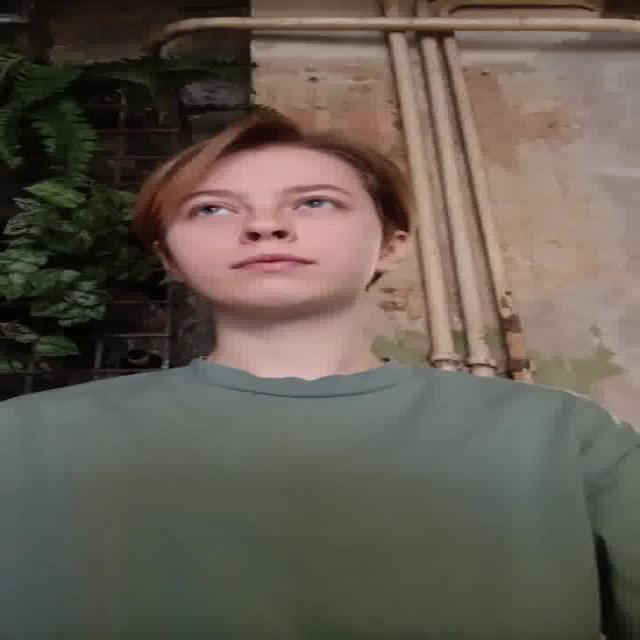earlobe: (151, 238, 188, 282), (375, 230, 409, 272)
